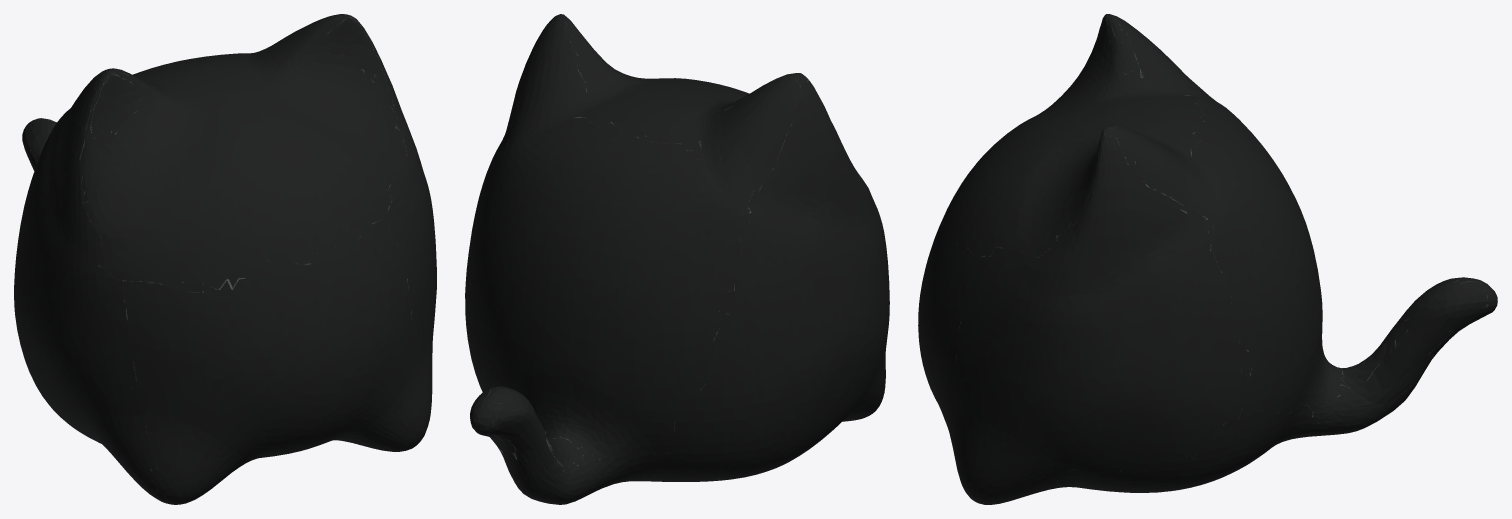
The model's file is kiki (4).fbx.
3 views of the same model, side by side, from view 1: azimuth 30°, elevation 25°; view 2: azimuth 150°, elevation 25°; view 3: azimuth 270°, elevation 25° (orthographic). The views are drawn at different scales.
Visible parts, largest first — view 1: Sphere; view 2: Sphere; view 3: Sphere.
Boxes of the visible parts, left/top/right/bottom form: Sphere: left=14, top=14, right=436, bottom=504; Sphere: left=465, top=14, right=889, bottom=504; Sphere: left=918, top=14, right=1497, bottom=504.
Bounding box in the file's own units: 110 × 110 × 153.
Materials: 1 (1 with a texture image).
